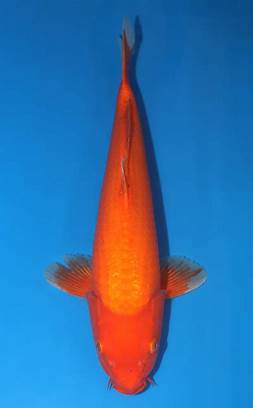red: (43, 13, 207, 395)
